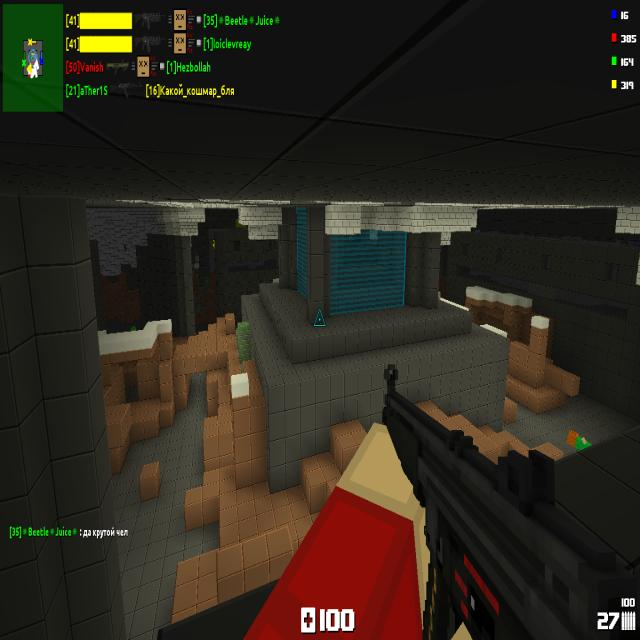enemy: (212, 240, 215, 250)
